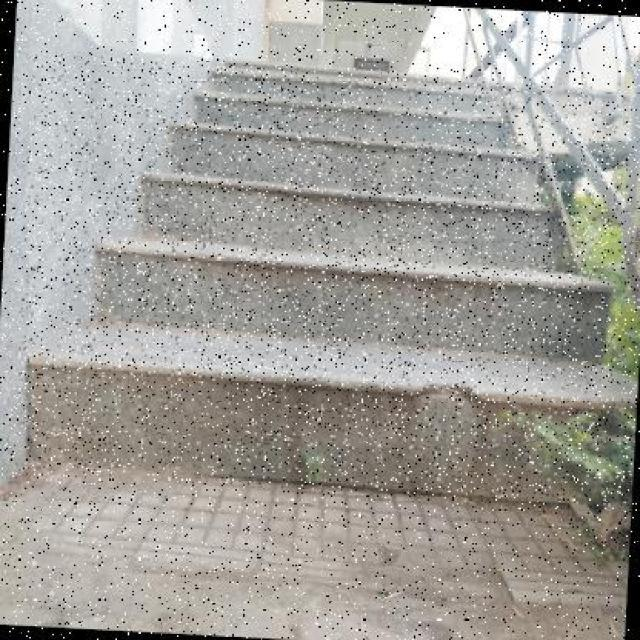Stairs: (32, 34, 638, 507)
